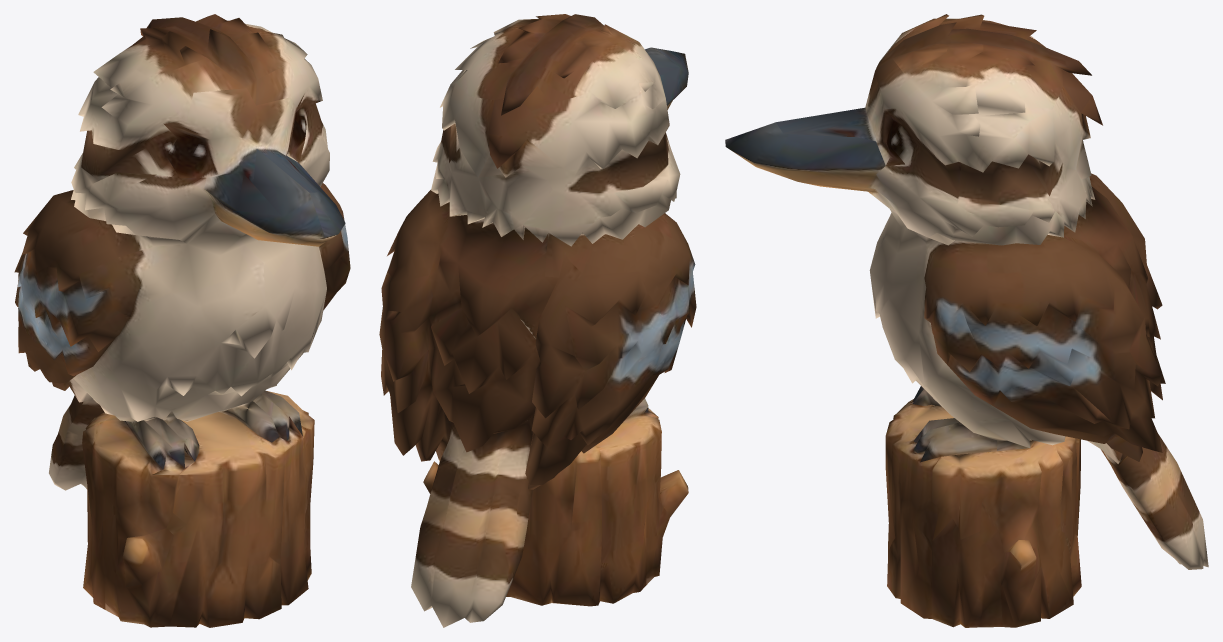
Rendered from kookaburra.glb.
The picture shows the model from 3 angles, left to right: view 1: azimuth 30°, elevation 25°; view 2: azimuth 150°, elevation 25°; view 3: azimuth 270°, elevation 25°; orthographic projection. The views are drawn at different scales.
Parts seen in each view (by area): view 1: model; view 2: model; view 3: model.
Part boxes in pixels (box(x1,y1,x2,y2)): model: box(14, 14, 350, 627); model: box(379, 14, 696, 627); model: box(725, 14, 1208, 627).
Size of the model in its own units: 0.9869 by 1.89 by 1.49.
Materials: 1 (1 with a texture image).
